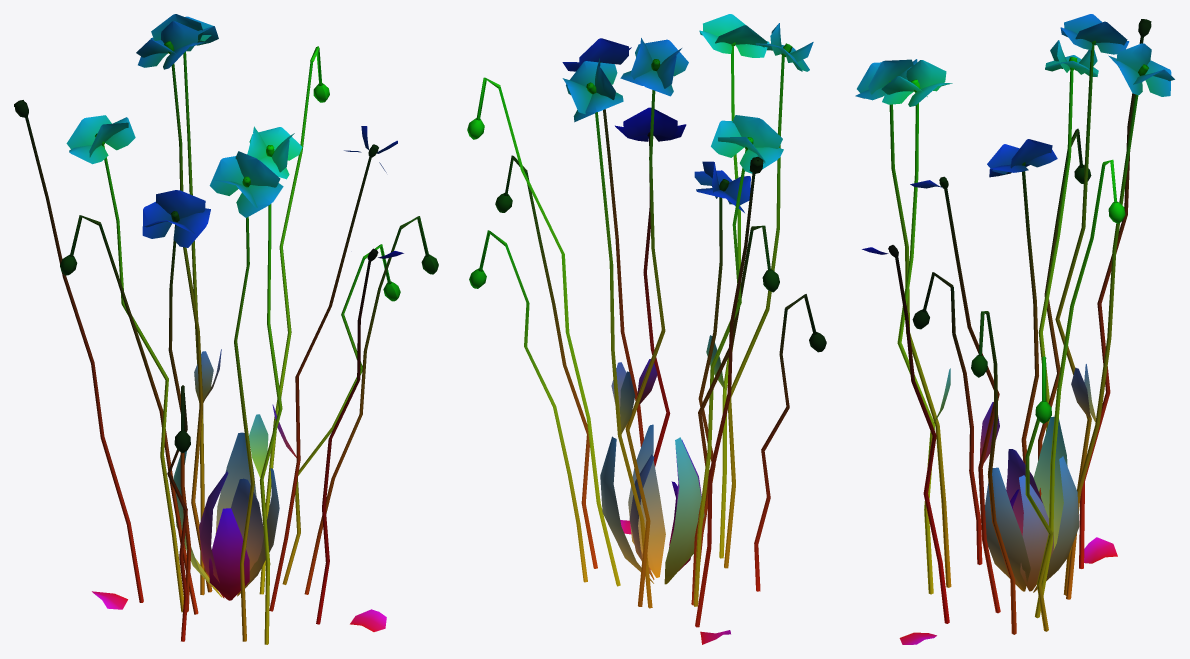
The model's file is SM_Flower_Poppy_C_LOD1.fbx.
The picture shows the model from 3 angles, left to right: view 1: azimuth 30°, elevation 25°; view 2: azimuth 150°, elevation 25°; view 3: azimuth 270°, elevation 25°; orthographic projection. The views are drawn at different scales.
Visible parts, largest first — view 1: SM_Flower_Poppy_C_LOD1; view 2: SM_Flower_Poppy_C_LOD1; view 3: SM_Flower_Poppy_C_LOD1.
Part boxes in pixels (left/top/right/bottom): SM_Flower_Poppy_C_LOD1: left=14, top=14, right=438, bottom=644; SM_Flower_Poppy_C_LOD1: left=467, top=14, right=826, bottom=644; SM_Flower_Poppy_C_LOD1: left=855, top=14, right=1174, bottom=644.
Size of the model in its own units: 0.4069 by 0.6457 by 0.3274.
